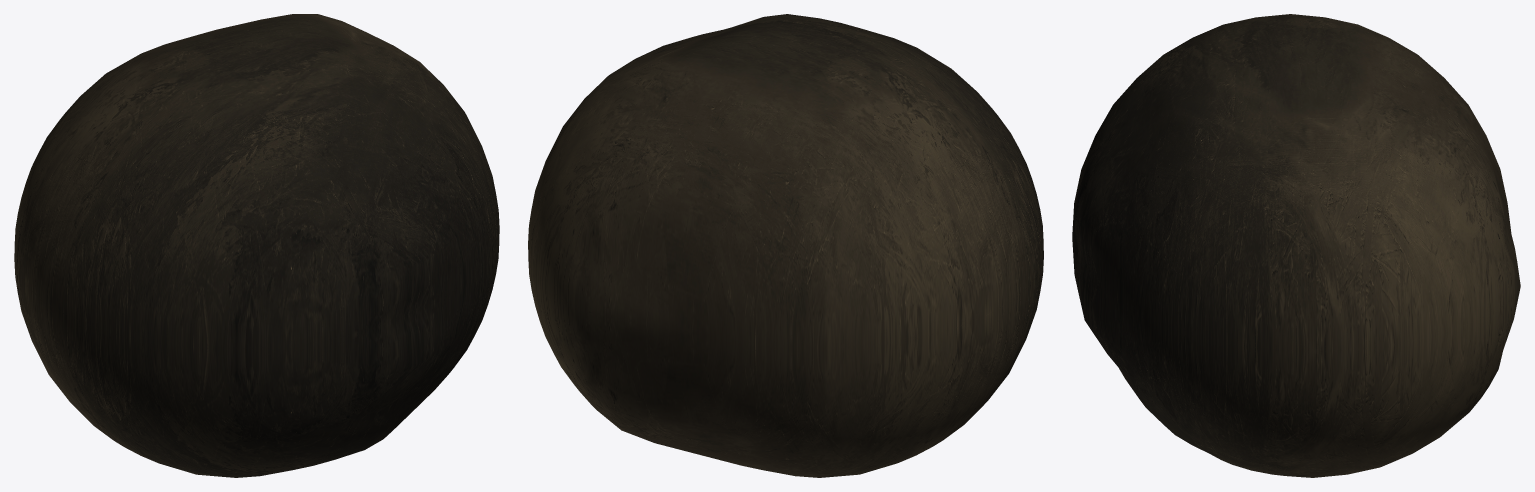
Rendered from marron5.FBX.
3 views of the same model, side by side, from view 1: azimuth 30°, elevation 25°; view 2: azimuth 150°, elevation 25°; view 3: azimuth 270°, elevation 25° (orthographic). The views are drawn at different scales.
Visible parts, largest first — view 1: Géosphère001; view 2: Géosphère001; view 3: Géosphère001.
Part boxes in pixels (left/top/right/bottom): Géosphère001: left=14, top=14, right=499, bottom=477; Géosphère001: left=528, top=14, right=1043, bottom=477; Géosphère001: left=1072, top=14, right=1520, bottom=477.
Bounding box in the file's own units: 5.52 × 4.88 × 4.97.
Materials: 1 (1 with a texture image).
